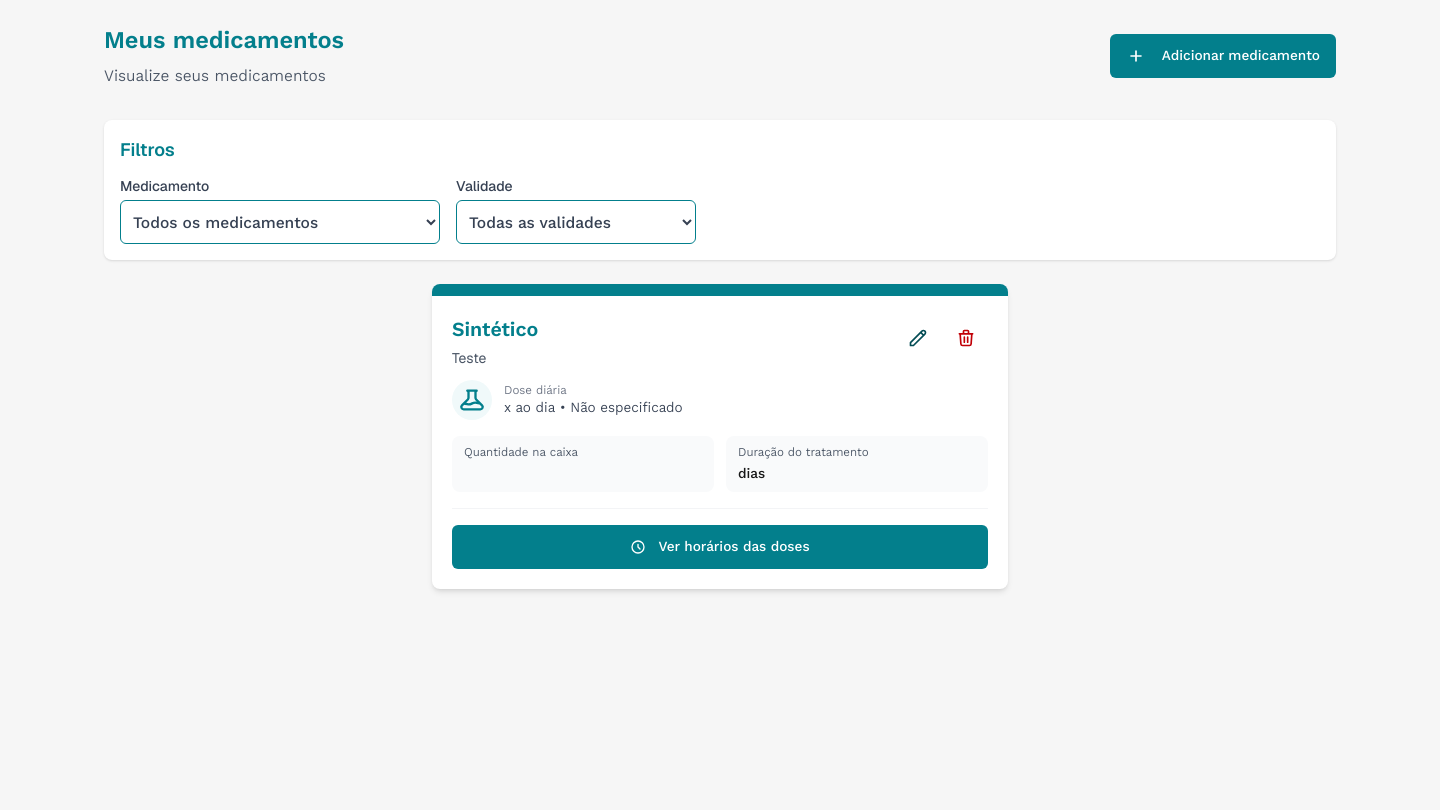
Scenario: NET-13 NET-14 medicamentos › ERR-18 exclusão confirmada limpa erro próprio e atualiza lista; cancelamento não envia
Expected: the heading "Sintético" is shown, x1=452 y1=318 x2=538 y2=341
Click the button named "Excluir medicamento" at (966, 338), box x1=944 y1=316 x2=988 y2=360
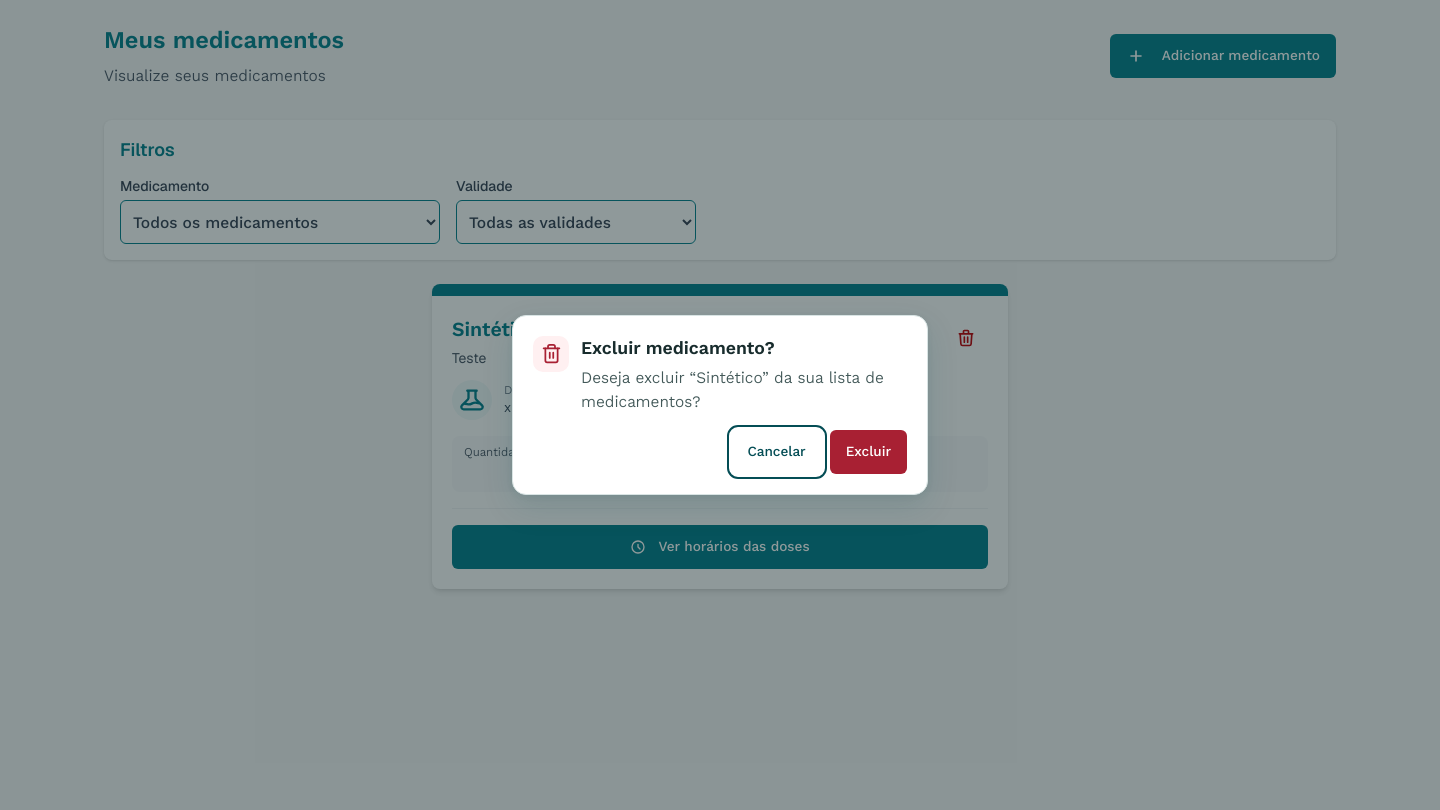
Click the button "Cancelar" at (777, 452), box x1=732 y1=430 x2=822 y2=474
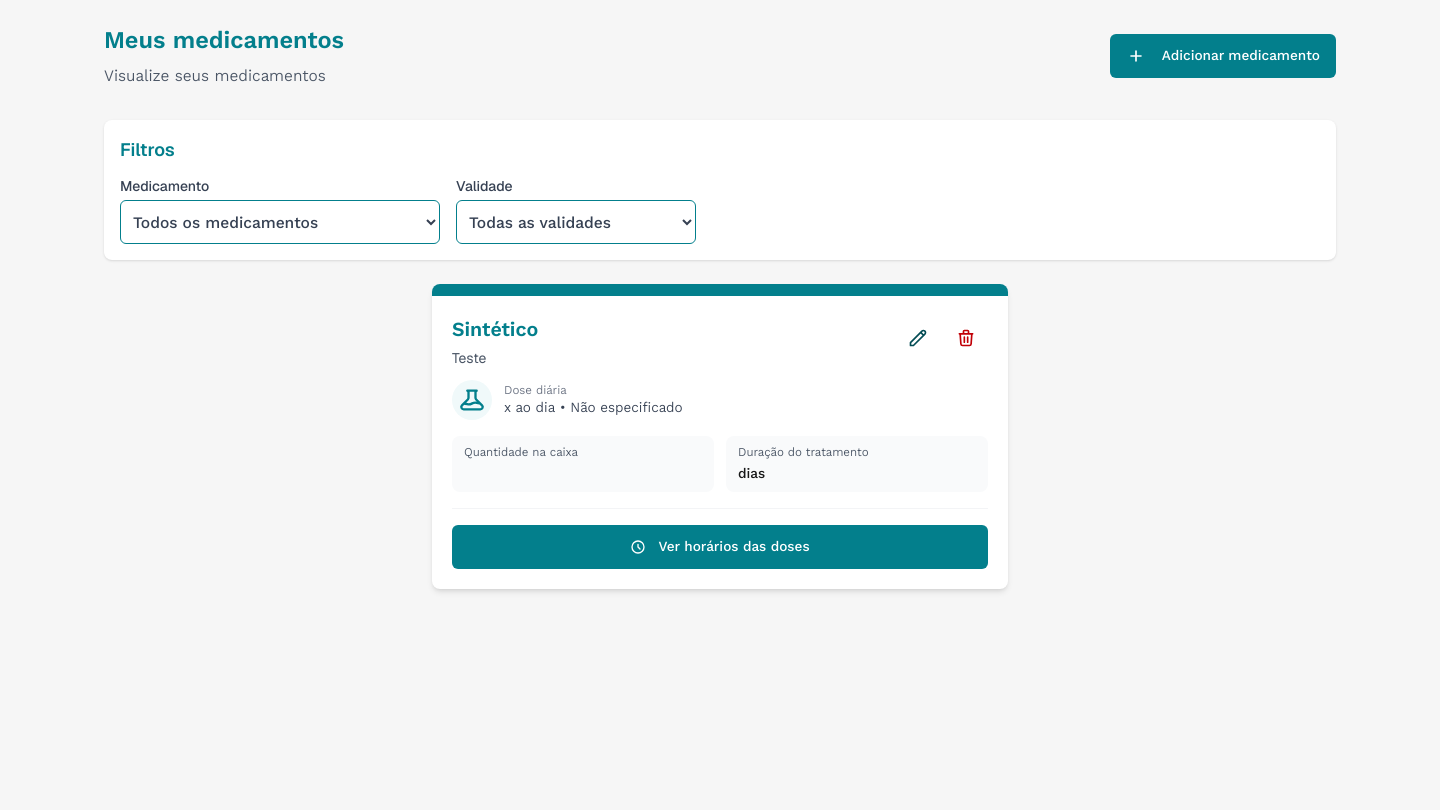
Expected: the dialog is gone
Click the button named "Excluir medicamento" at (966, 338), box x1=944 y1=316 x2=988 y2=360
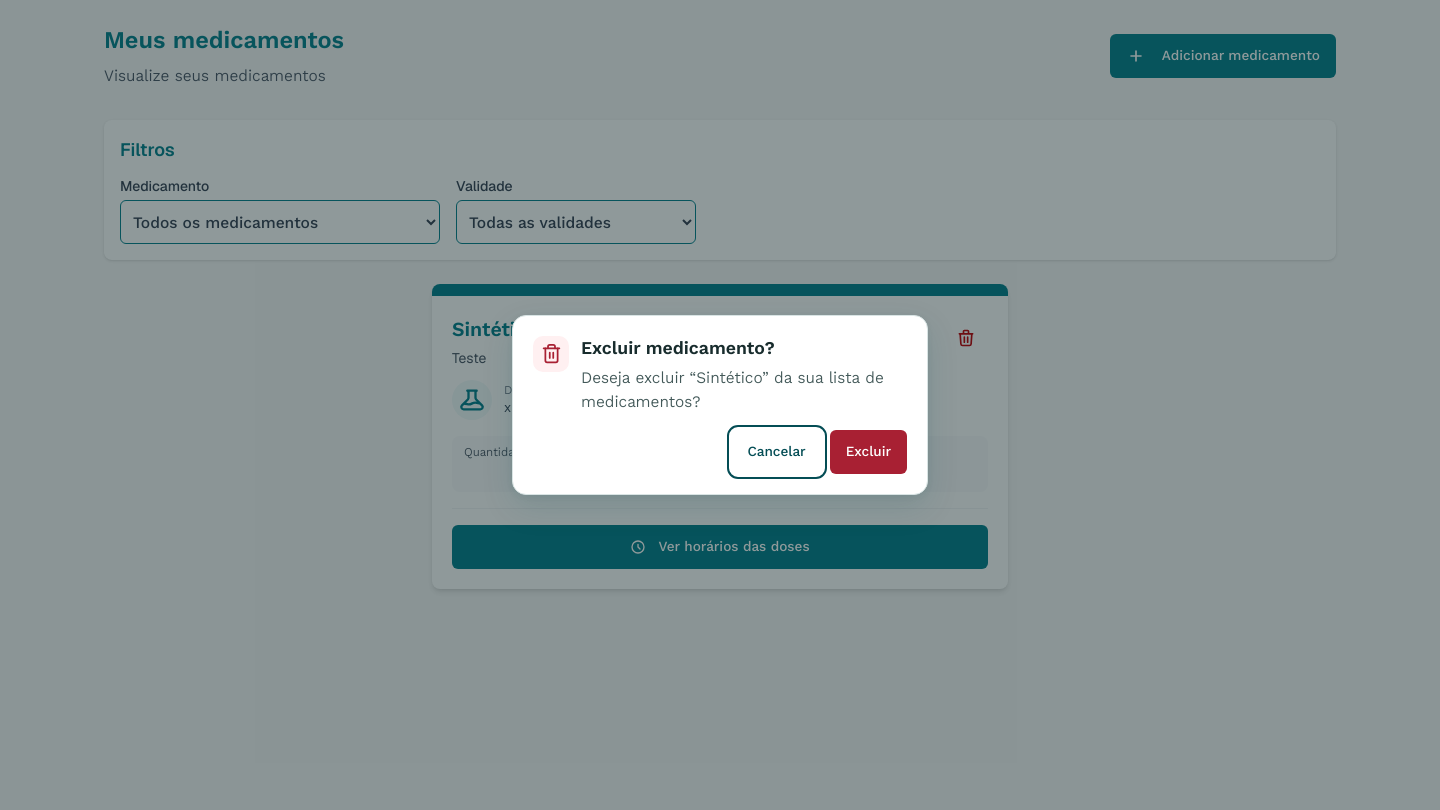
Click the button "Excluir" at (868, 452), box x1=830 y1=430 x2=907 y2=474
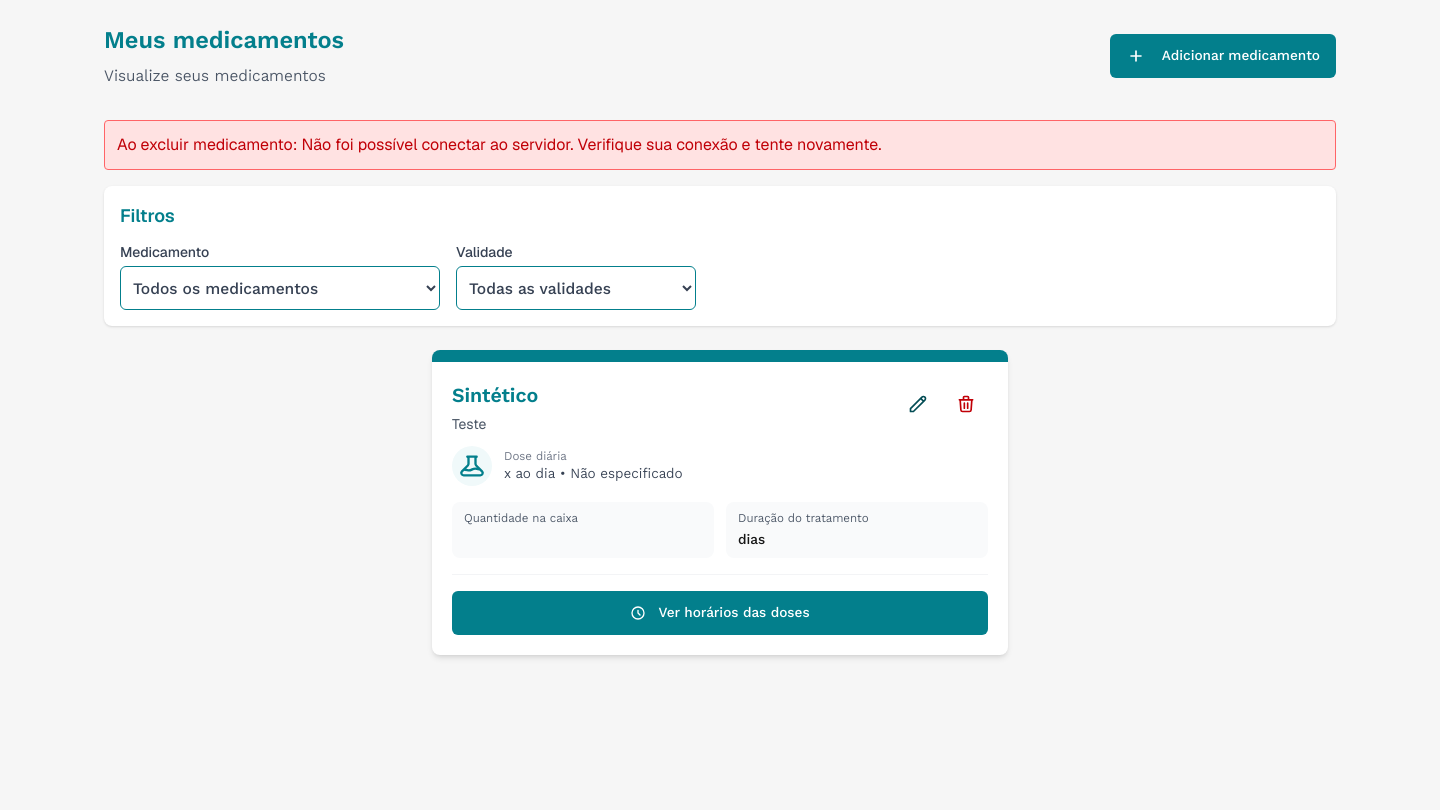
Expected: the message is shown, x1=104 y1=120 x2=1336 y2=170
Click the button named "Excluir medicamento" at (966, 404), box x1=944 y1=382 x2=988 y2=426
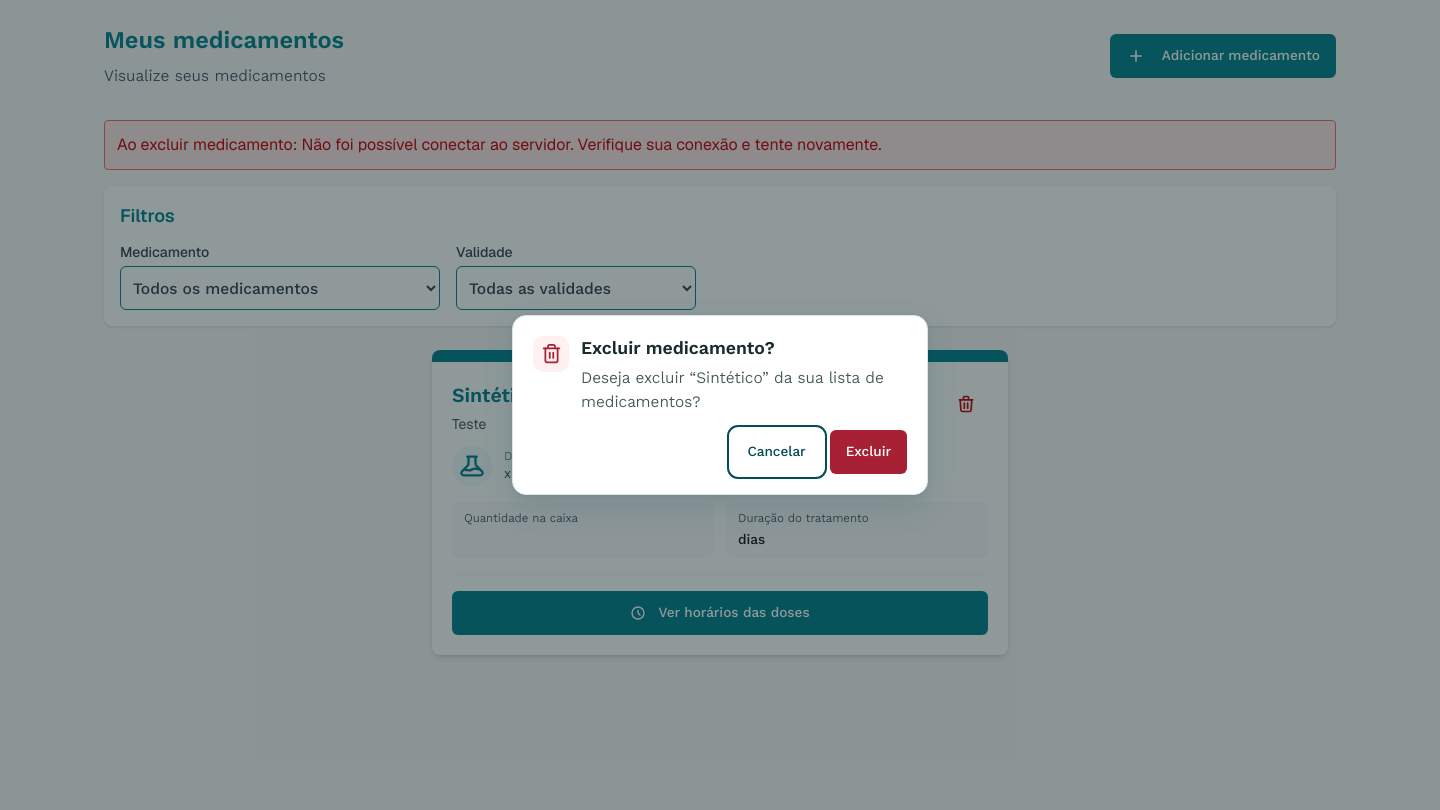
Click the button "Excluir" at (868, 452), box x1=830 y1=430 x2=907 y2=474
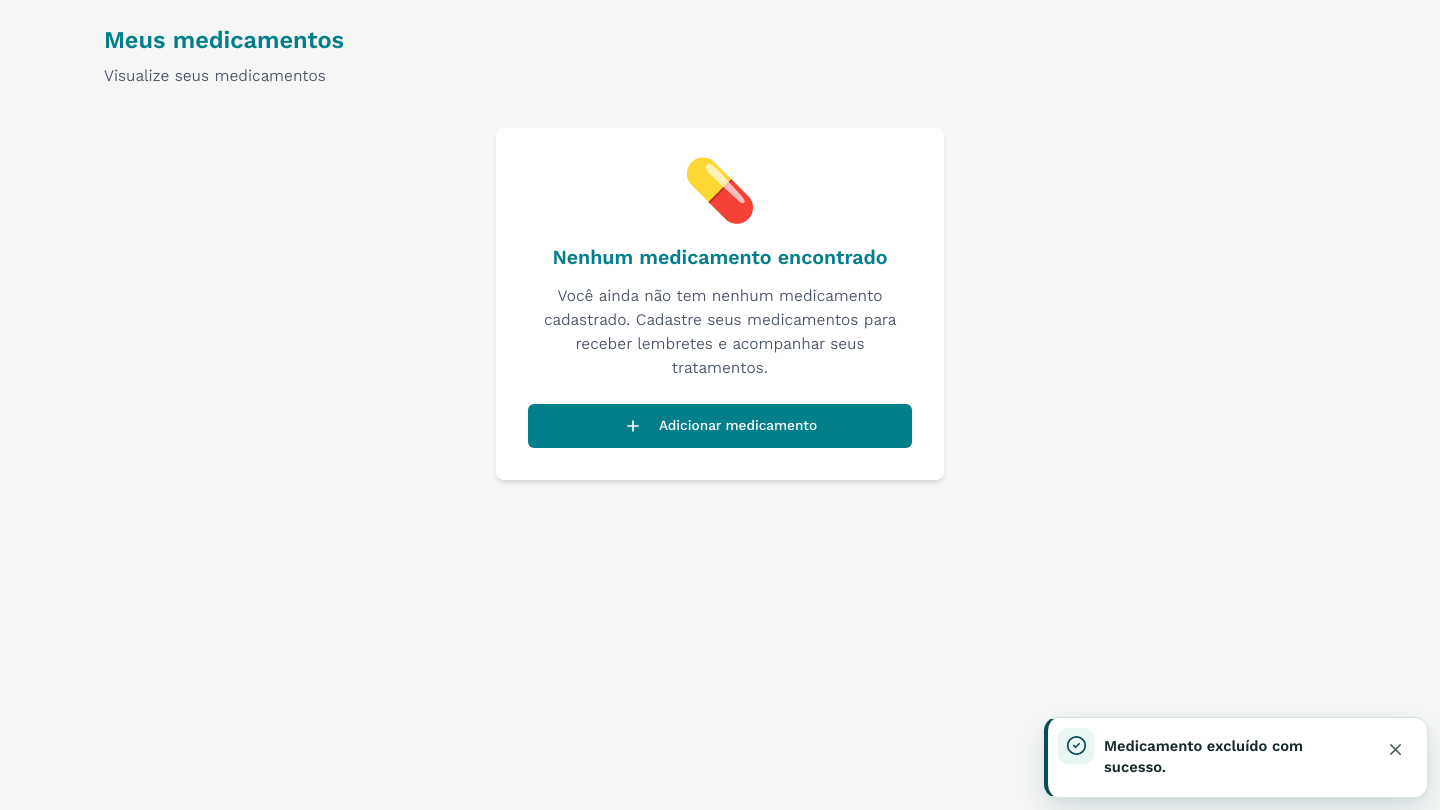
Expected: the heading "Nenhum medicamento encontrado" is shown, x1=528 y1=244 x2=912 y2=272
Expected: the text "Medicamento excluído com sucesso." is shown, x1=1104 y1=736 x2=1303 y2=776
Expected: the message is gone
